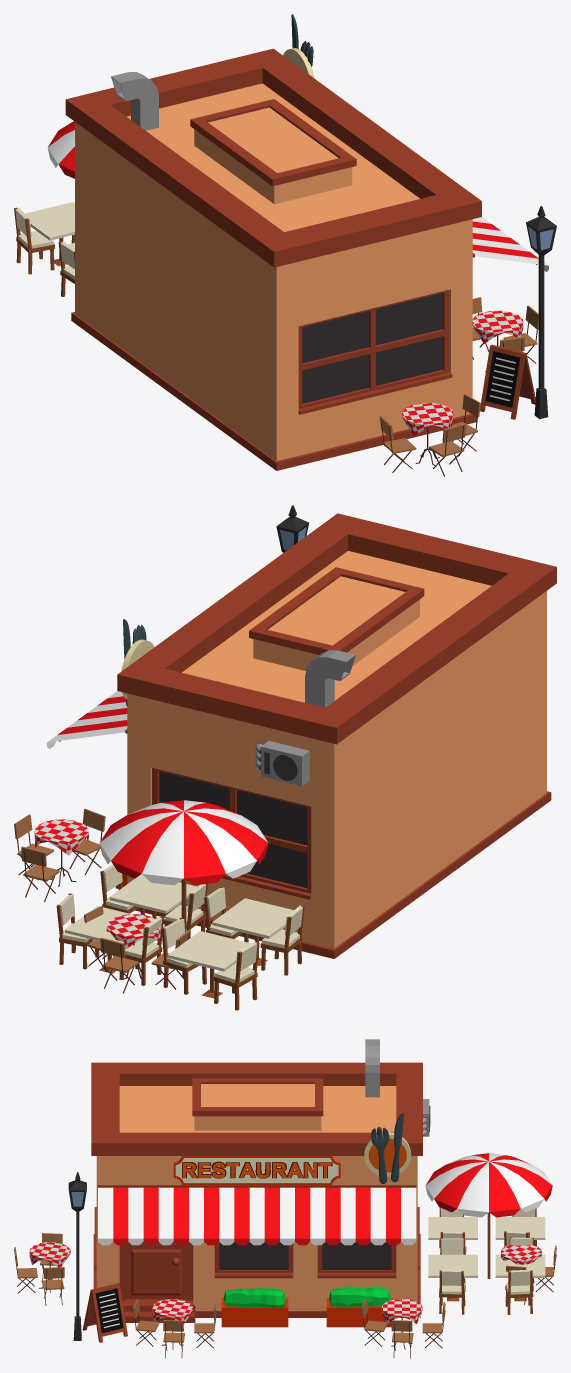
Rendered from restaurant (2x1).fbx.
The picture shows the model from 3 angles, top to bottom: view 1: azimuth 30°, elevation 25°; view 2: azimuth 150°, elevation 25°; view 3: azimuth 270°, elevation 25°; orthographic projection. The views are drawn at different scales.
Parts seen in each view (by area): view 1: RestaurantBuilding; view 2: RestaurantBuilding; view 3: RestaurantBuilding.
Part boxes in pixels (x1=…): RestaurantBuilding: x1=14, y1=14, x2=556, y2=476; RestaurantBuilding: x1=14, y1=505, x2=556, y2=1010; RestaurantBuilding: x1=14, y1=1039, x2=556, y2=1358.
Bounding box in the file's own units: 144 × 116 × 271.
